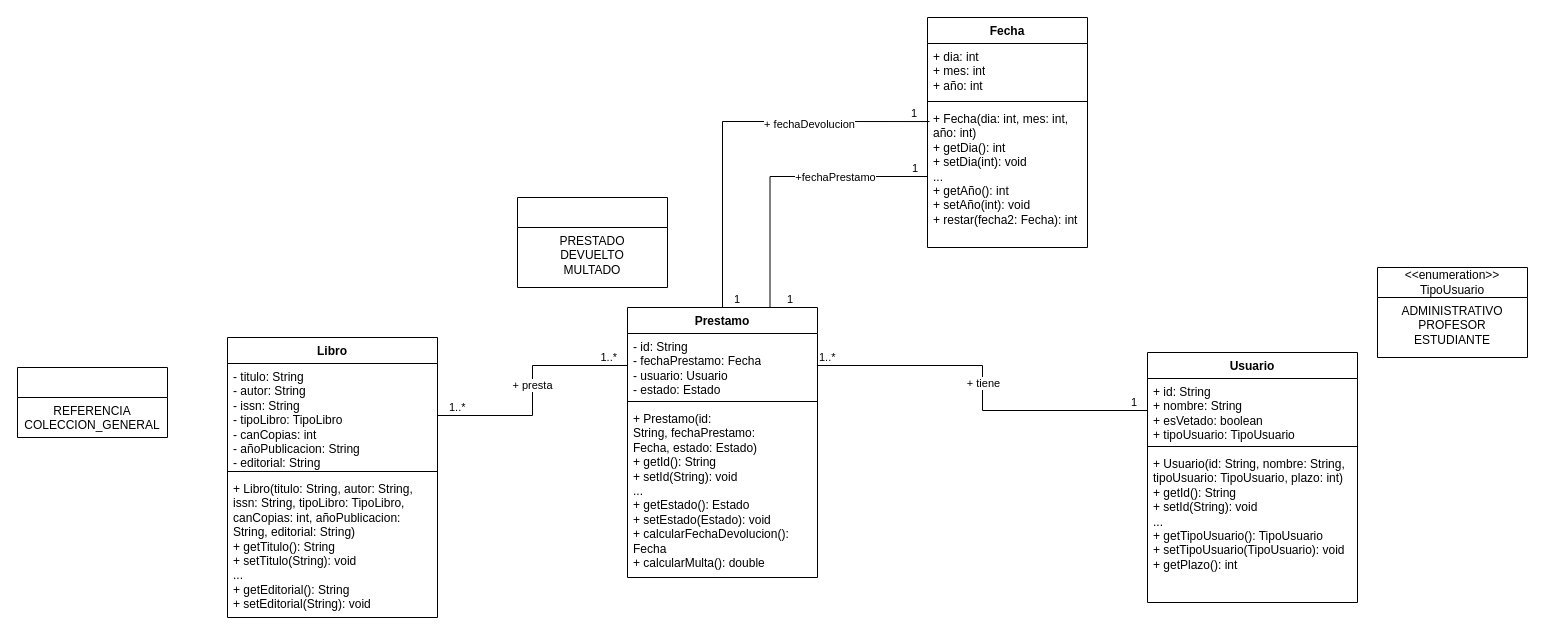
This 1545x638 diagram has some shape labels left out. The shapes that lost their labels are listed below. From the top down, each one's box as (x1, y1, x2, y2) in pixels, then its label:
(516, 196, 668, 288): <<enumeration>> Estado
(16, 366, 168, 438): <<enumeration>> TipoLibro
